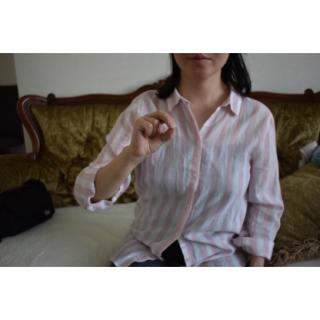QAAF: (122, 106, 178, 162)
